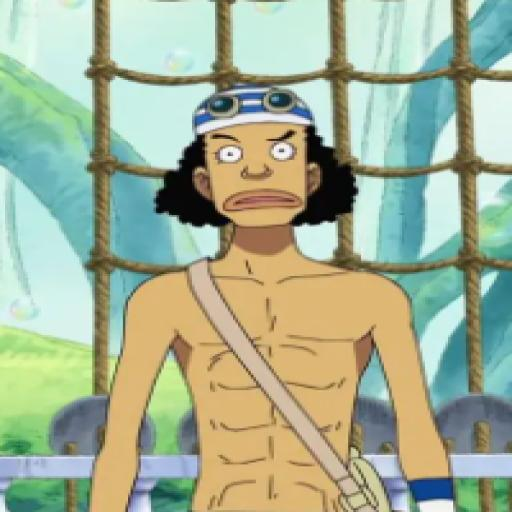Usopp: (95, 77, 493, 512)
